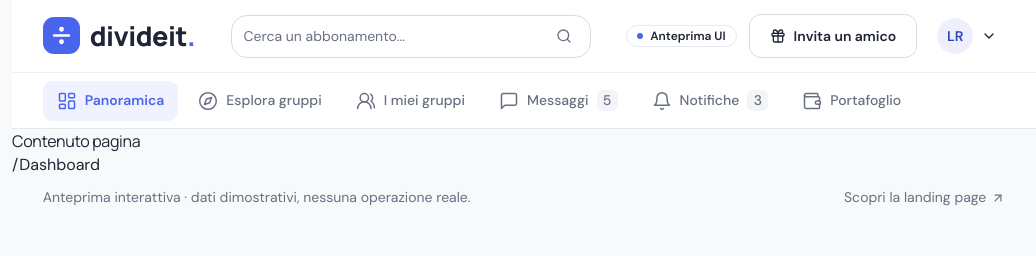
Test: AppShell › offers profile, settings and support through a keyboard-accessible account menu
Press ArrowDown in the button with aria-label "Apri menu account", box [929, 12, 1005, 60]
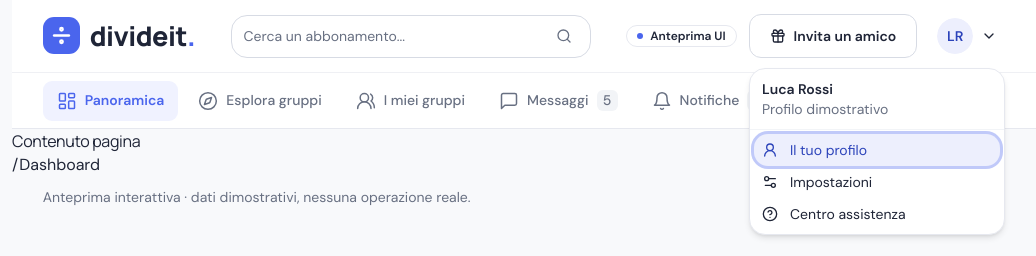
Expected: the text "Profilo dimostrativo" is shown, [762, 100, 888, 118]
Click the menu item "Centro assistenza" at (834, 214), box [762, 205, 906, 223]
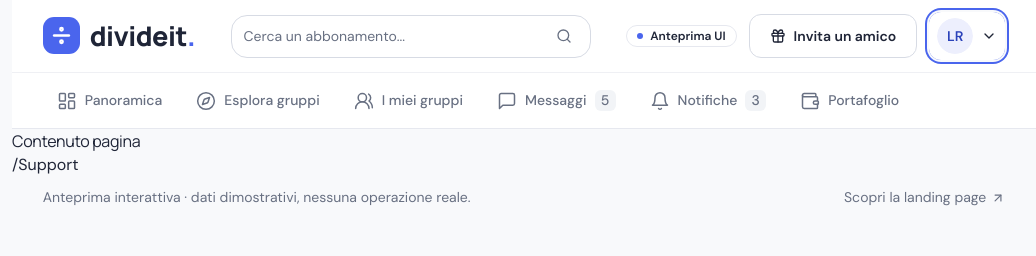
Expected: the text with test id "route" reads "/Support", [12, 154, 78, 175]
